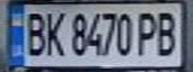0: (115, 8, 136, 57)
4: (84, 9, 103, 56)
7: (100, 9, 118, 57)
8: (66, 9, 87, 56)
B: (151, 7, 181, 57), (21, 8, 48, 57)
K: (42, 8, 69, 57)
P: (133, 8, 160, 57)
